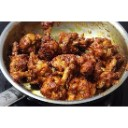chicken_lollipop: (42, 59, 79, 103), (77, 39, 118, 76), (18, 31, 47, 81), (70, 70, 99, 100), (58, 28, 92, 52), (8, 42, 28, 78), (42, 24, 59, 59)
